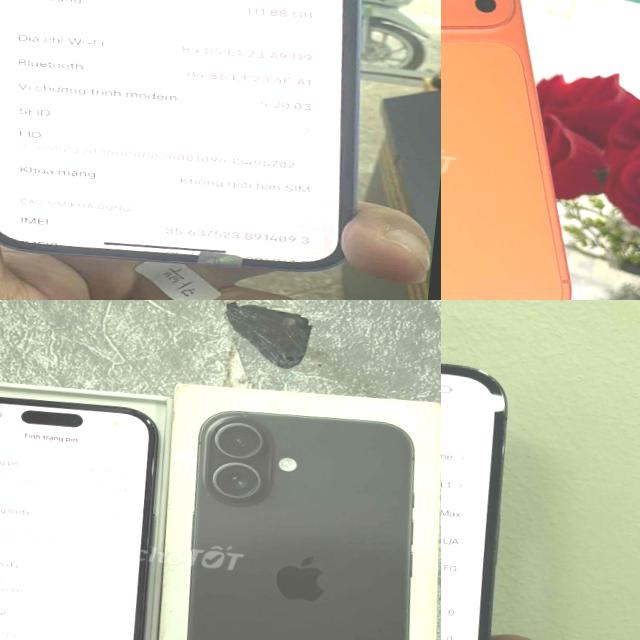gen_12_13: (0, 0, 395, 293)
gen_14: (441, 327, 544, 640)
gen_16: (0, 397, 156, 640)
gen_17: (441, 0, 618, 300)
